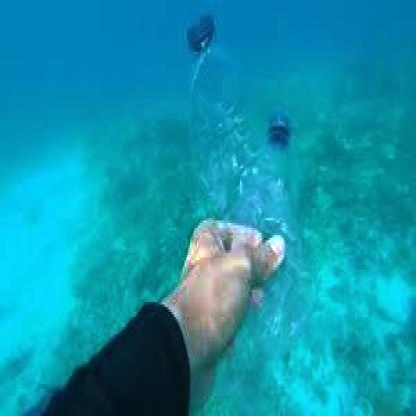pbottle: (179, 13, 277, 324), (262, 106, 313, 341)
